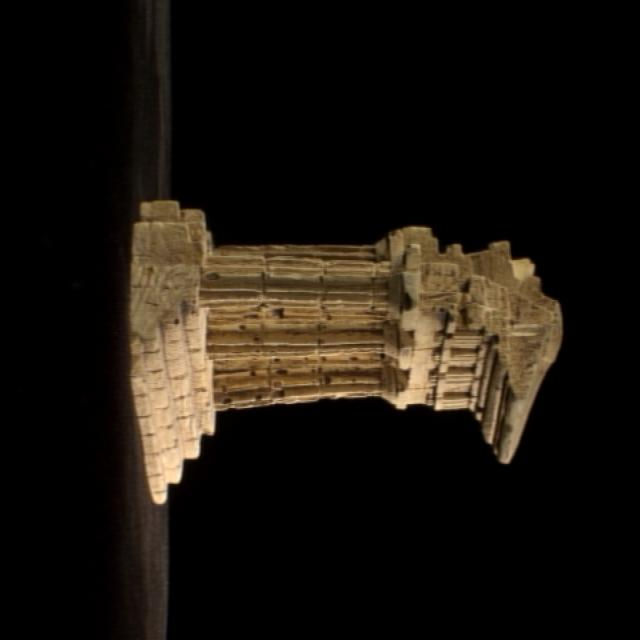Instance-Segmentation: (131, 201, 561, 503)
